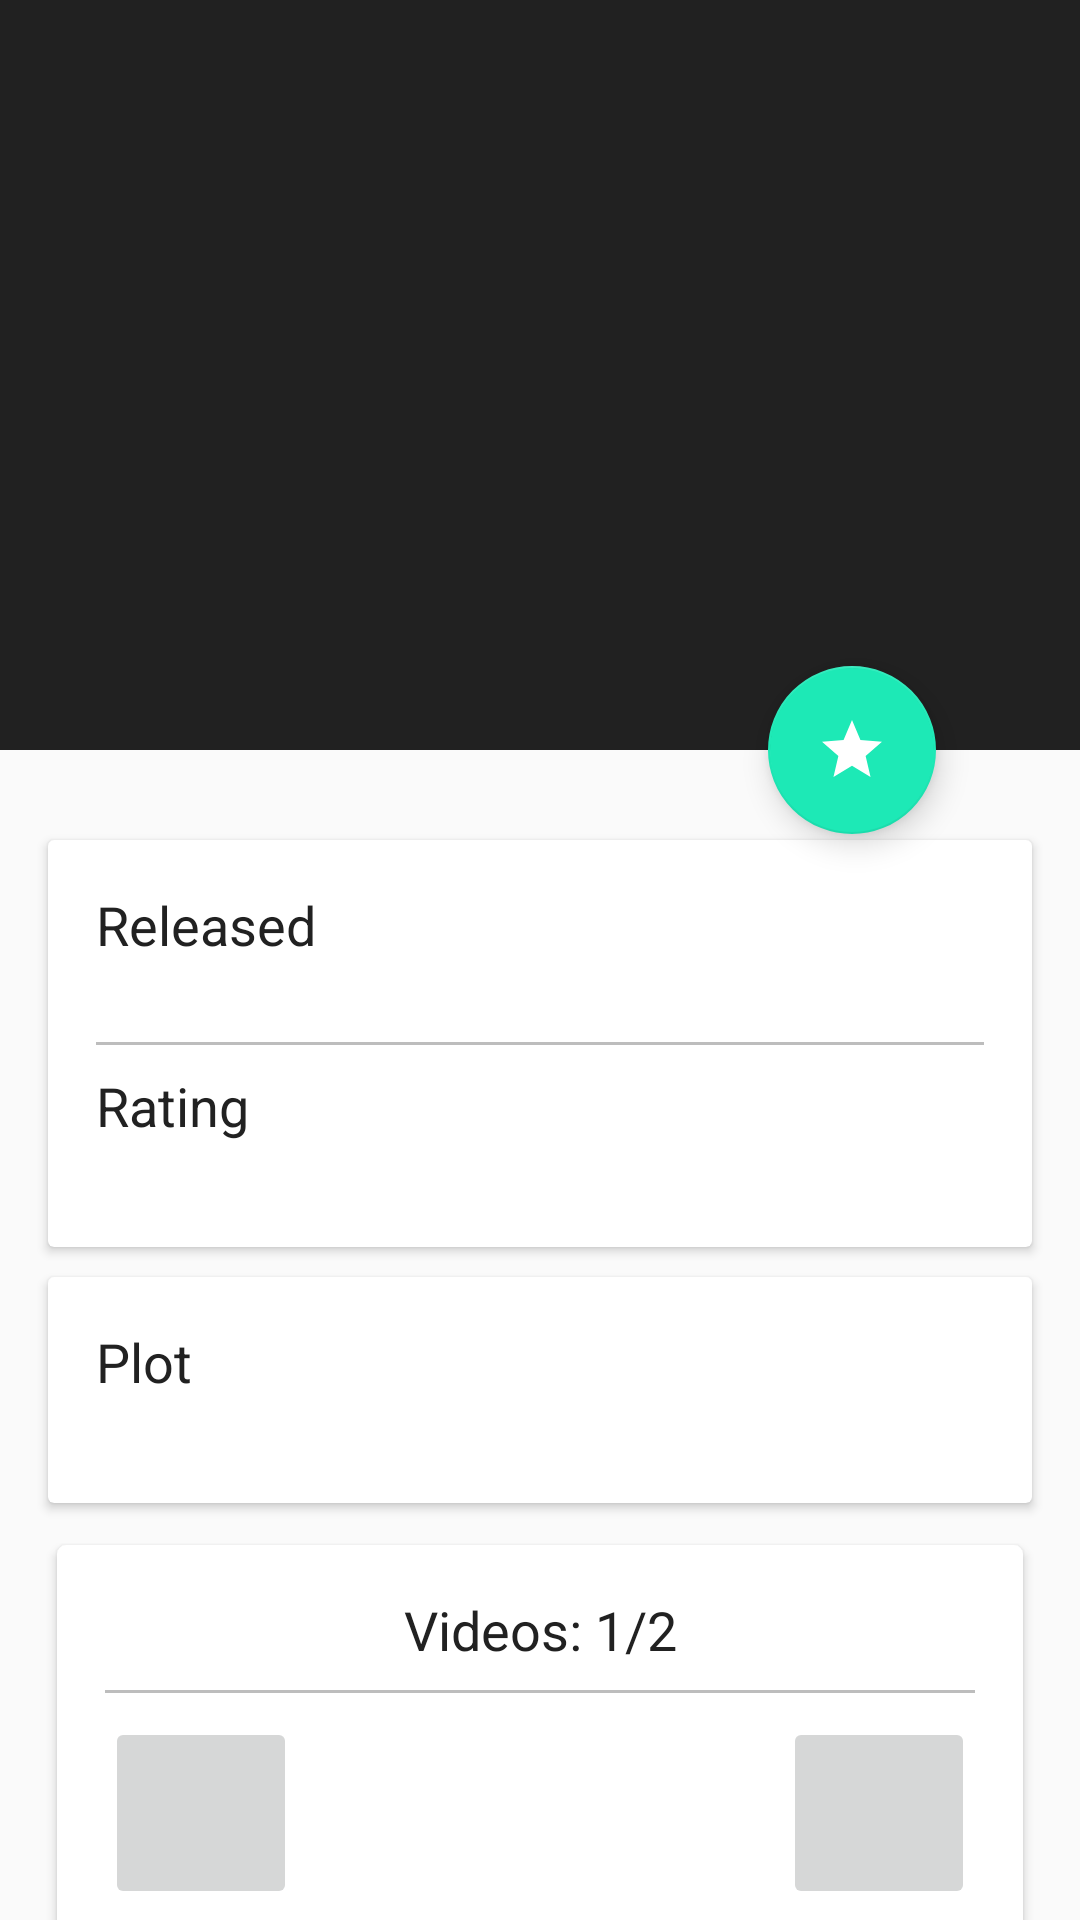

Named icons in this screenshot (1080w x 1920h) and their centers, point (x, y):
star: point (852, 750)
